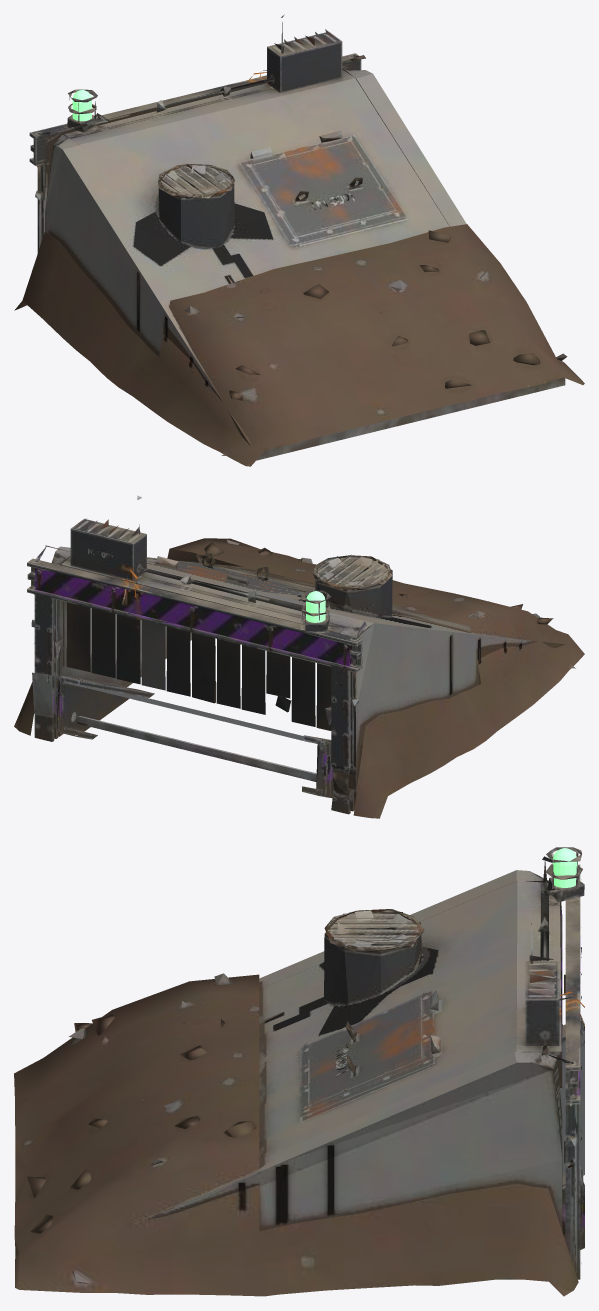
Rendered from esteira_tunel_saida_quantica.glb.
3 renders of one model, top to bottom at view 1: azimuth 30°, elevation 25°; view 2: azimuth 150°, elevation 25°; view 3: azimuth 270°, elevation 25°, orthographic. The views are drawn at different scales.
Parts seen in each view (by area): view 1: esteira_tunel_saida_quantica_corpo; view 2: esteira_tunel_saida_quantica_corpo; view 3: esteira_tunel_saida_quantica_corpo.
Boxes of the visible parts, x1,y1,x2,y2 form: esteira_tunel_saida_quantica_corpo: (14, 14, 584, 466); esteira_tunel_saida_quantica_corpo: (14, 495, 584, 818); esteira_tunel_saida_quantica_corpo: (14, 847, 584, 1296).
Size of the model in its own units: 0.9416 by 0.6061 by 1.
4 materials, 1 textured.
